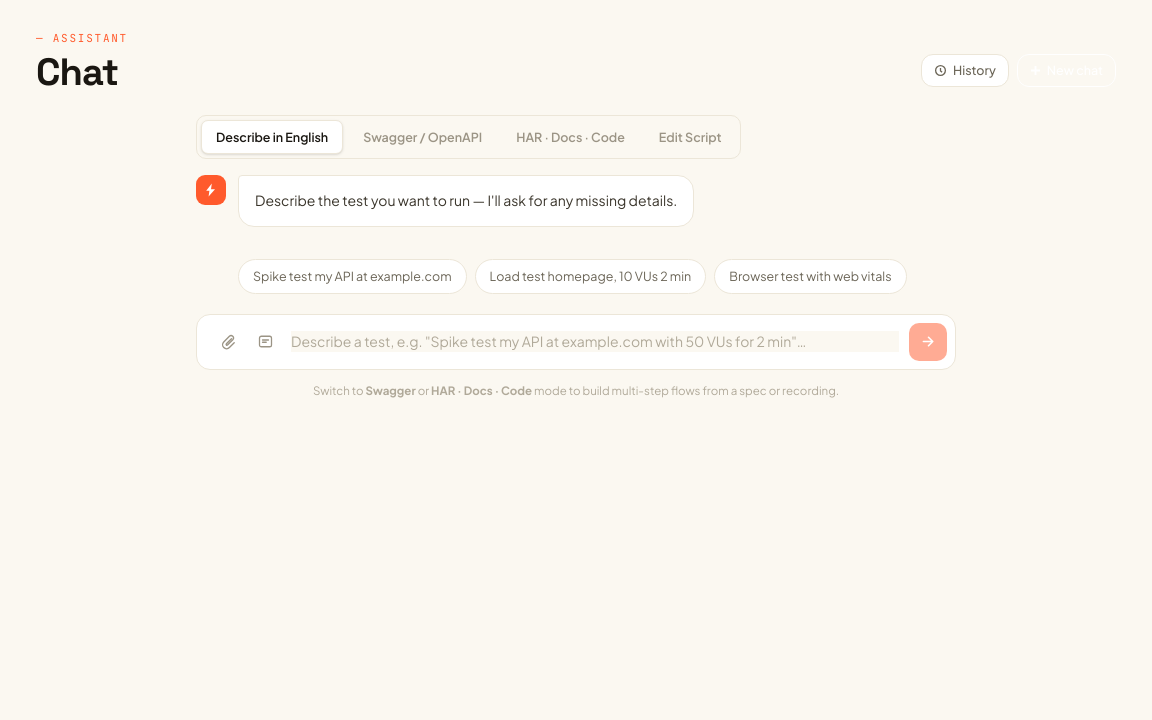
Test case: ChatPage › renders a preview card with Run Test / Keep chatting buttons on a ready response
Replace the text in the field with placeholder "Describe a test" with "Load test https://api.example.com with 50 VUs for 2 minutes" at (595, 342), box [291,331,899,352]
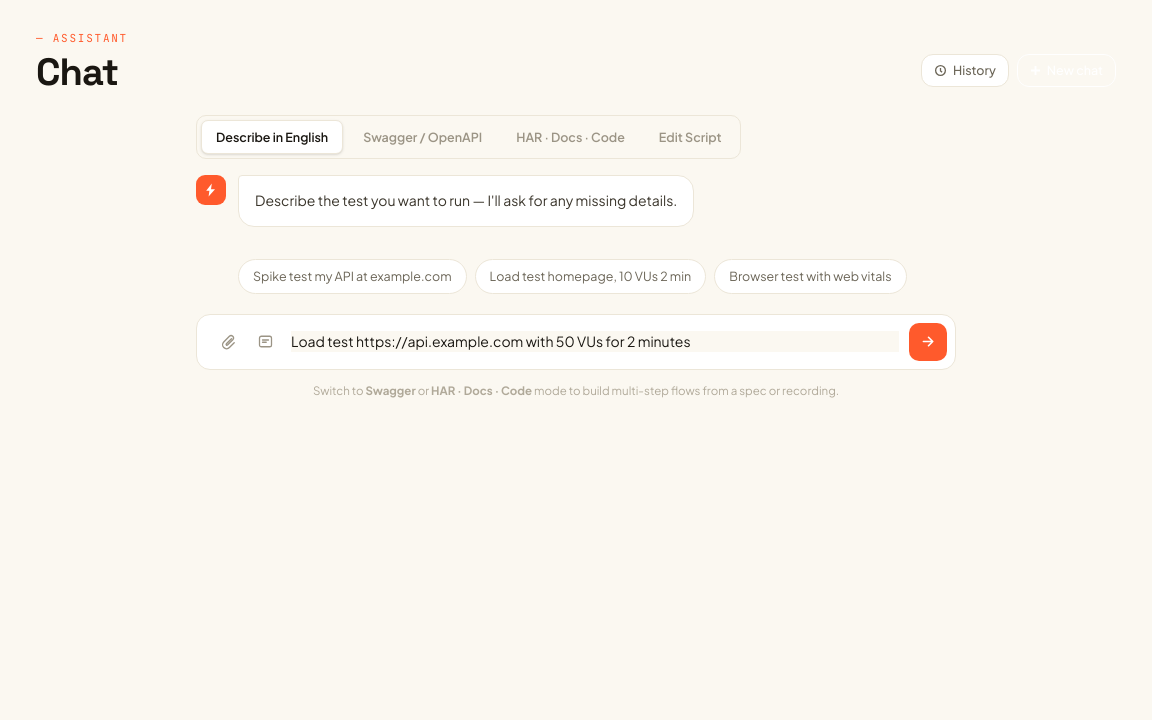
Click the button named "send" at (928, 342), box [909,323,947,361]
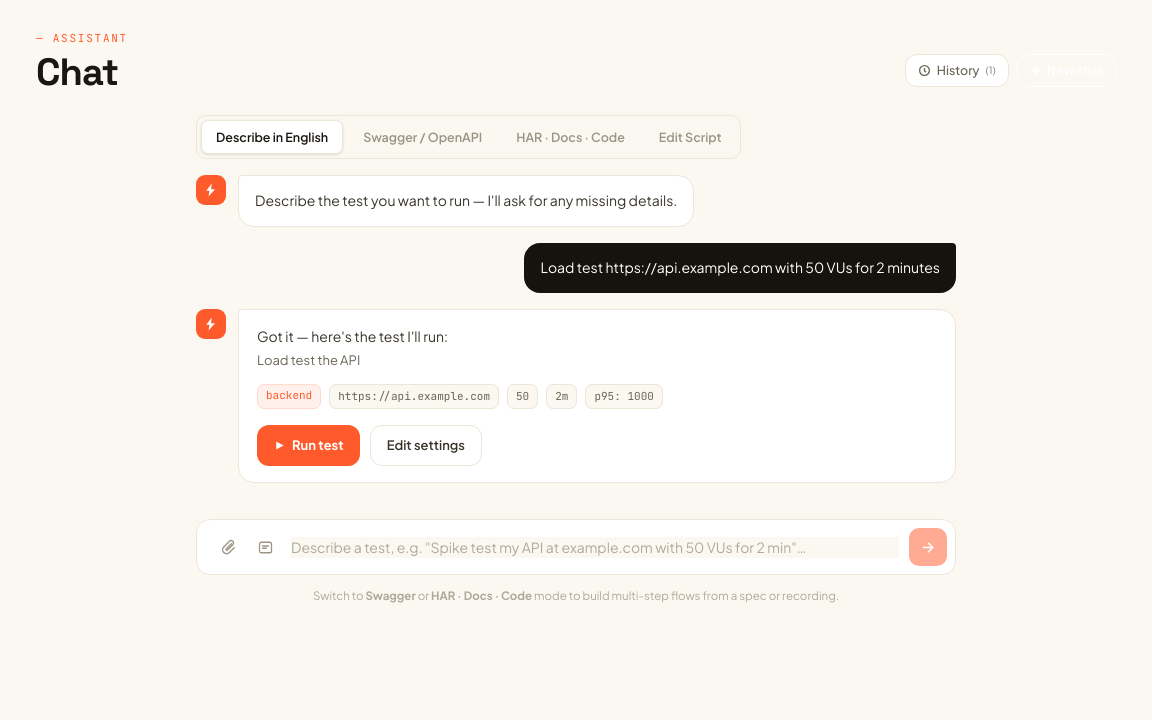
Check: the text "https://api.example.com" is shown, box [329,384,499,409]
Check: the text "backend" is shown, box [257,384,321,409]
Check: the text "Load test the API" is shown, box [257,352,360,368]
